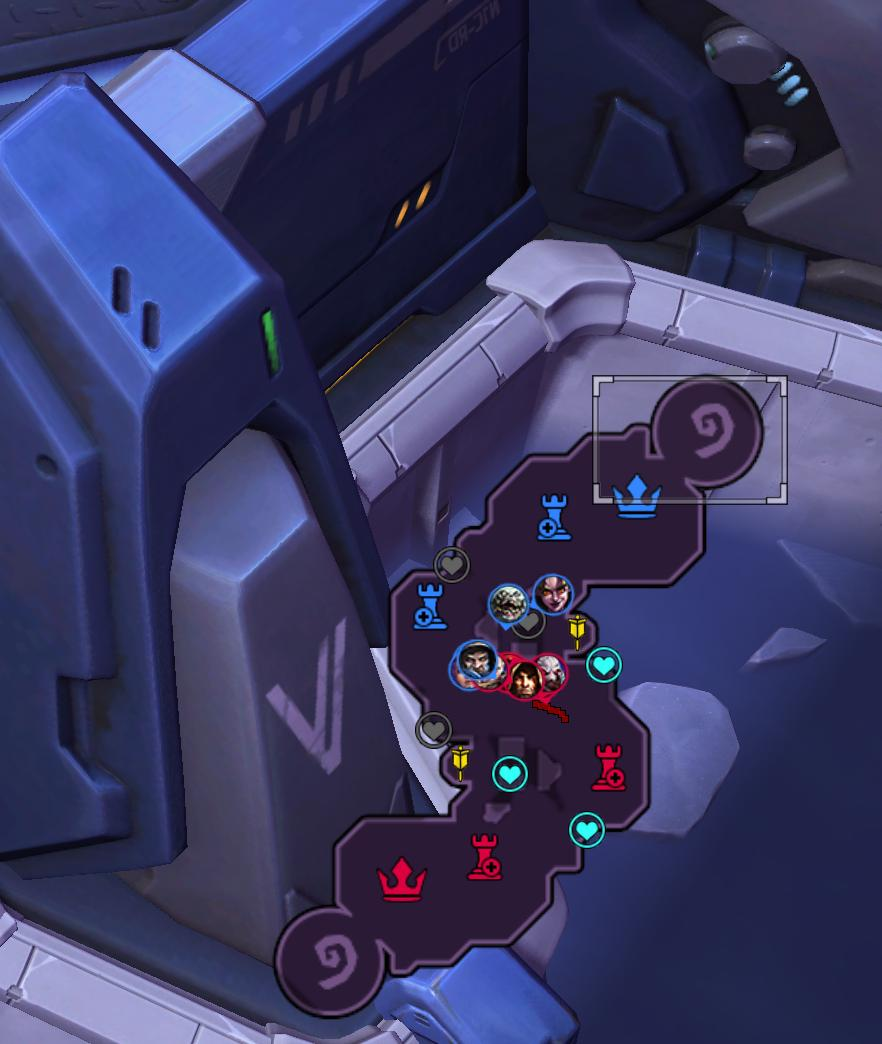blue nexus: (605, 471, 675, 523)
blue player: (455, 641, 502, 688), (487, 582, 531, 627), (532, 573, 573, 615), (488, 658, 507, 689)
blue tower: (408, 578, 454, 635), (533, 490, 575, 544)
red nexus: (369, 852, 434, 909)
red player: (494, 652, 533, 698), (531, 653, 568, 698), (509, 660, 542, 699)
red tower: (462, 830, 505, 885), (589, 739, 631, 794)
